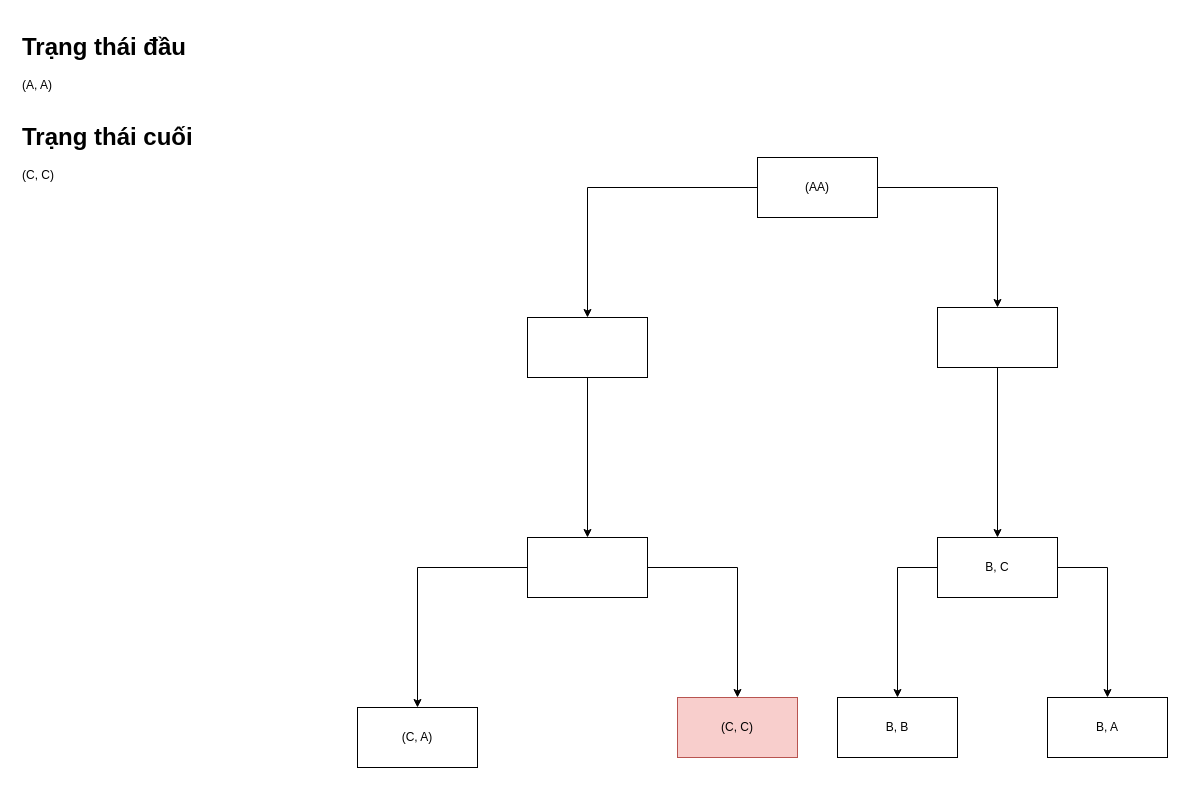
Some shapes in this 1185 by 785 pixel diagram are drawn without their labels. The box of each missing label's shape, as (x1, y1, x2, y2) in pixels:
(A, B): (526, 316, 648, 378)
(A, C): (936, 306, 1058, 368)
(C, B): (526, 536, 648, 598)
